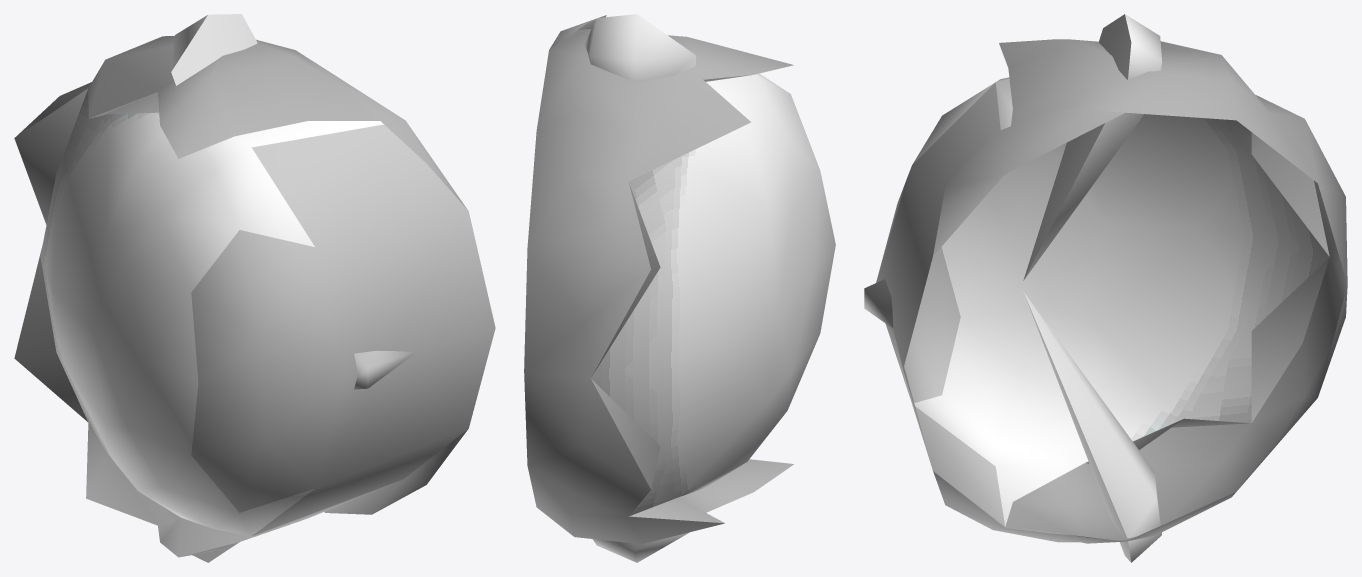
Rendered from girl11b.dae.
The picture shows the model from 3 angles, left to right: view 1: azimuth 30°, elevation 25°; view 2: azimuth 150°, elevation 25°; view 3: azimuth 270°, elevation 25°; orthographic projection.
Parts seen in each view (by area): view 1: vsn_mesh_1_, vsn_mesh_0_, vsn_mesh_2_; view 2: vsn_mesh_1_; view 3: vsn_mesh_1_, vsn_mesh_0_, vsn_mesh_2_.
Part boxes in pixels (<box>): vsn_mesh_1_: <box>14,14,467,562</box>; vsn_mesh_0_: <box>251,124,495,535</box>; vsn_mesh_2_: <box>191,230,344,512</box>; vsn_mesh_1_: <box>524,14,835,562</box>; vsn_mesh_1_: <box>912,14,1347,562</box>; vsn_mesh_0_: <box>864,82,1005,526</box>; vsn_mesh_2_: <box>876,167,960,402</box>.
Size of the model in its own units: 15.5 by 26.71 by 21.59.
Materials: 3 (1 with a texture image).
